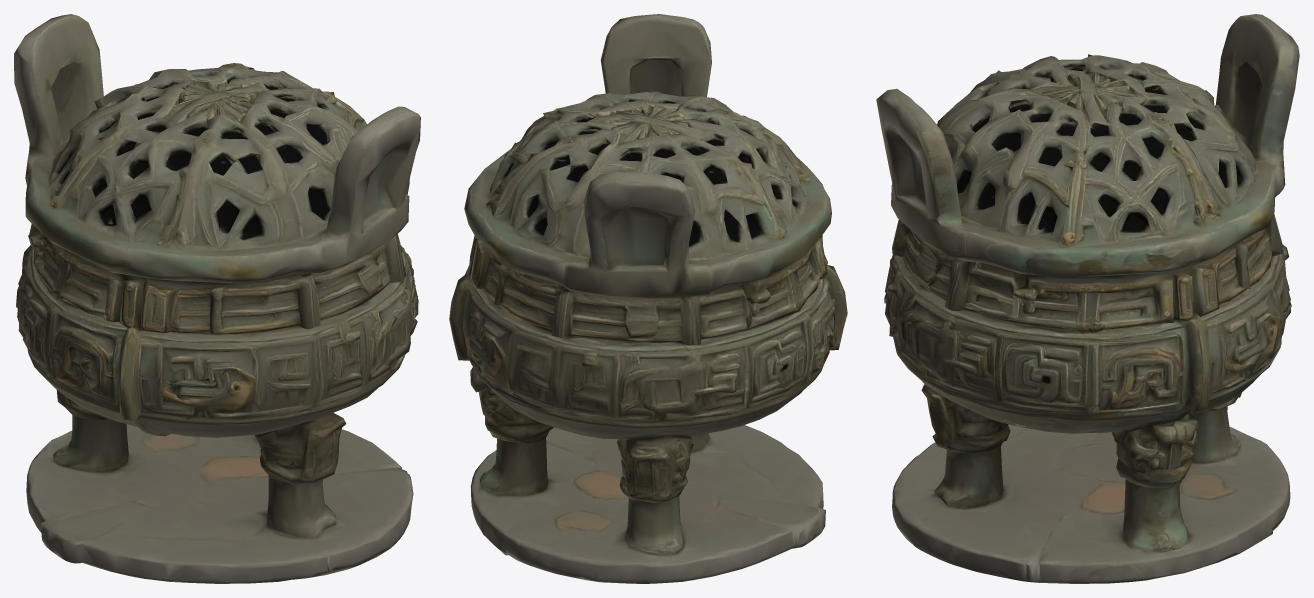
Rendered from court-incense.glb.
The picture shows the model from 3 angles, left to right: view 1: azimuth 30°, elevation 25°; view 2: azimuth 150°, elevation 25°; view 3: azimuth 270°, elevation 25°; orthographic projection. The views are drawn at different scales.
Visible parts, largest first — view 1: tripo_node_23d388ab-0e0f-4459-8ca6-a9ce50113ef1; view 2: tripo_node_23d388ab-0e0f-4459-8ca6-a9ce50113ef1; view 3: tripo_node_23d388ab-0e0f-4459-8ca6-a9ce50113ef1.
Part boxes in pixels (box(x1,y1,x2,y2)): tripo_node_23d388ab-0e0f-4459-8ca6-a9ce50113ef1: box(14, 14, 420, 583); tripo_node_23d388ab-0e0f-4459-8ca6-a9ce50113ef1: box(449, 14, 847, 583); tripo_node_23d388ab-0e0f-4459-8ca6-a9ce50113ef1: box(876, 14, 1299, 583).
Bounding box in the file's own units: 0.8301 × 1 × 0.8645.
Materials: 1 (1 with a texture image).
